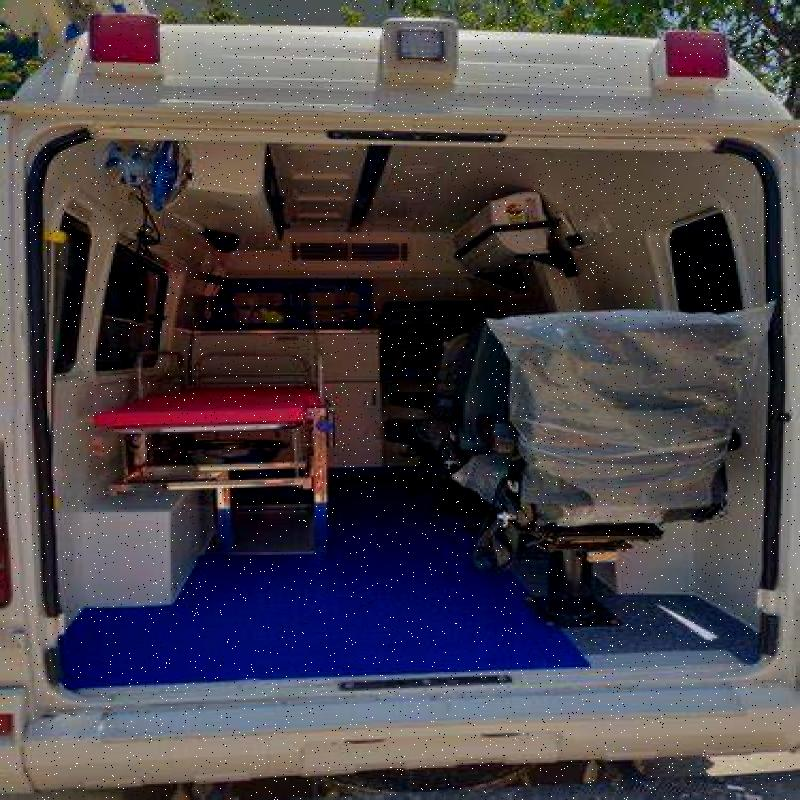AmbulanceSiren: (83, 0, 184, 93), (654, 18, 752, 97)
